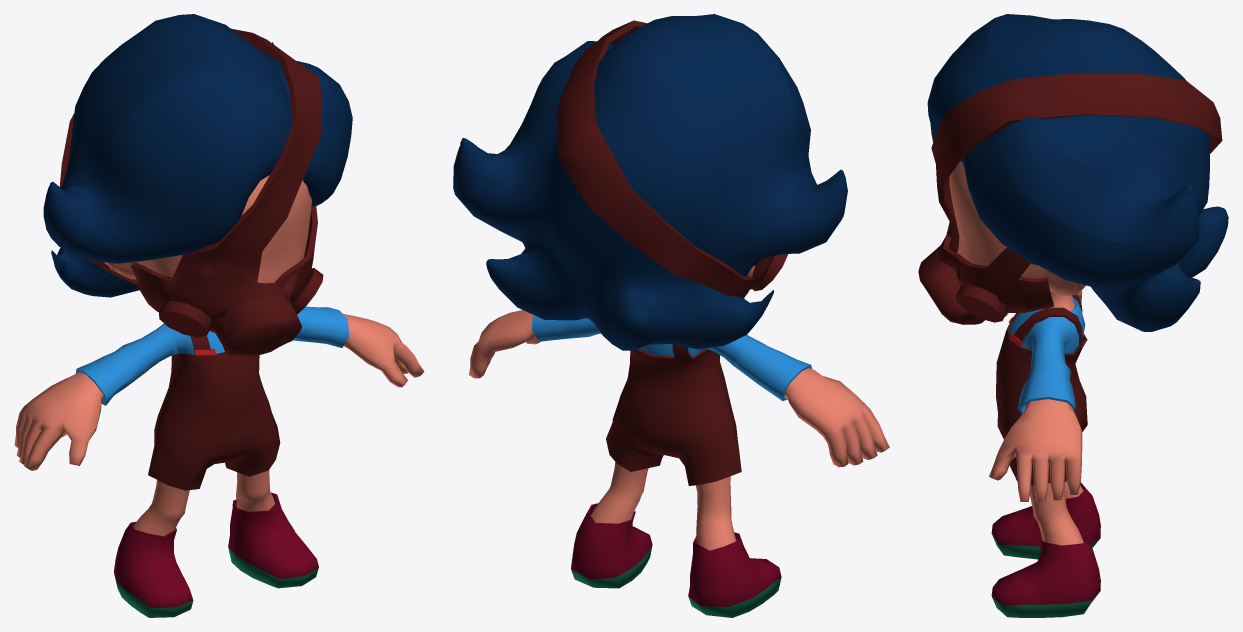
Rendered from blue_character.fbx.
3 renders of one model, left to right at view 1: azimuth 30°, elevation 25°; view 2: azimuth 150°, elevation 25°; view 3: azimuth 270°, elevation 25°, orthographic. The views are drawn at different scales.
Visible parts, largest first — view 1: ZBrush_defualt_group, Object011, Object006, Object008, Object010, Object007, Cylinder002, Cylinder001; view 2: ZBrush_defualt_group, Object008, Object011, Object006, Object010, Object007; view 3: ZBrush_defualt_group, Object011, Object006, Object010, Object008, Object007, Cylinder001.
Boxes of the visible parts, x1,y1,x2,y2 form: ZBrush_defualt_group: (43, 14, 352, 297); Object011: (59, 28, 322, 356); Object006: (14, 175, 424, 536); Object008: (148, 335, 280, 490); Object010: (114, 492, 318, 617); Object007: (75, 306, 349, 405); Cylinder002: (159, 300, 211, 337); Cylinder001: (292, 268, 323, 314); ZBrush_defualt_group: (453, 14, 847, 350); Object008: (606, 344, 741, 485); Object011: (557, 20, 774, 298); Object006: (469, 265, 889, 550); Object010: (571, 503, 781, 617); Object007: (531, 315, 811, 400); ZBrush_defualt_group: (927, 14, 1228, 331); Object011: (918, 73, 1222, 324); Object006: (949, 161, 1085, 545); Object010: (991, 482, 1100, 617); Object008: (996, 294, 1087, 484); Object007: (1009, 296, 1085, 414); Cylinder001: (956, 284, 1007, 322).
Size of the model in its own units: 1.05 by 1.39 by 0.71.
